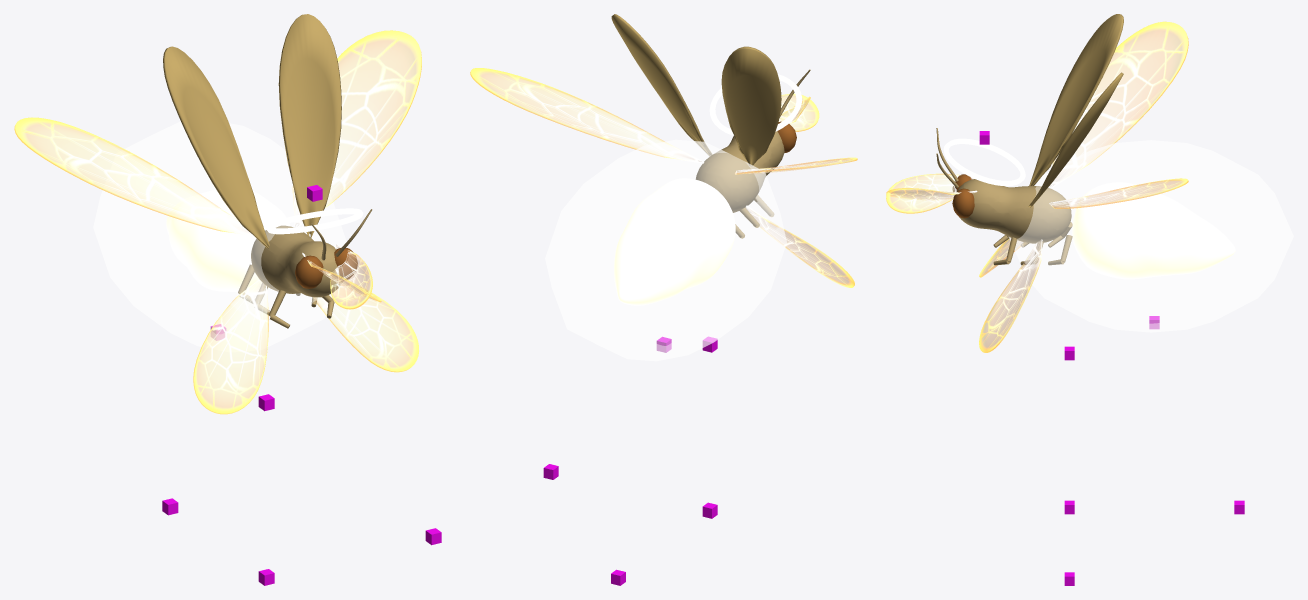
Rendered from 01_fiammella_serafino.glb.
3 renders of one model, left to right at view 1: azimuth 30°, elevation 25°; view 2: azimuth 150°, elevation 25°; view 3: azimuth 270°, elevation 25°, orthographic. The views are drawn at different scales.
Visible parts, largest first — view 1: Serafino__Ali_Nervature, Serafino__Alone_Dorato, Serafino__Elitre_Aperte, Serafino__Addome_Ardente, Serafino__Chitina_Perla, Serafino__Occhi_Composti, Serafino__Nimbo; view 2: Serafino__Alone_Dorato, Serafino__Addome_Ardente, Serafino__Ali_Nervature, Serafino__Elitre_Aperte, Serafino__Chitina_Perla, Serafino__Nimbo; view 3: Serafino__Alone_Dorato, Serafino__Ali_Nervature, Serafino__Addome_Ardente, Serafino__Elitre_Aperte, Serafino__Chitina_Perla, Serafino__Nimbo, Serafino__Occhi_Composti.
Part boxes in pixels (box(x1,y1,x2,y2)): Serafino__Ali_Nervature: box(14, 30, 421, 414); Serafino__Alone_Dorato: box(93, 121, 346, 351); Serafino__Elitre_Aperte: box(163, 14, 341, 248); Serafino__Addome_Ardente: box(166, 189, 289, 292); Serafino__Chitina_Perla: box(238, 209, 372, 328); Serafino__Occhi_Composti: box(295, 248, 357, 288); Serafino__Nimbo: box(266, 208, 363, 234); Serafino__Alone_Dorato: box(545, 139, 786, 361); Serafino__Addome_Ardente: box(614, 178, 735, 305); Serafino__Ali_Nervature: box(470, 68, 857, 287); Serafino__Elitre_Aperte: box(611, 14, 781, 165); Serafino__Chitina_Perla: box(696, 69, 810, 238); Serafino__Nimbo: box(709, 74, 801, 135); Serafino__Alone_Dorato: box(1009, 140, 1293, 332); Serafino__Ali_Nervature: box(886, 21, 1188, 352); Serafino__Addome_Ardente: box(1072, 182, 1235, 279); Serafino__Elitre_Aperte: box(1028, 14, 1123, 207); Serafino__Chitina_Perla: box(936, 128, 1072, 265); Serafino__Nimbo: box(943, 138, 1025, 186); Serafino__Occhi_Composti: box(952, 174, 974, 218).
Size of the model in its own units: 3.57 by 4.56 by 3.6.
Materials: 8 (1 with a texture image).
